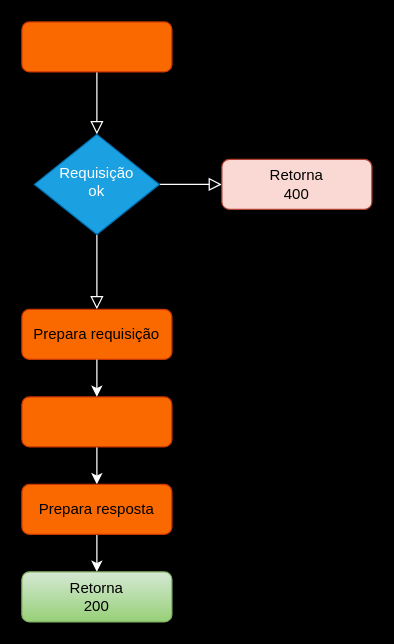
The diagram is 394 pixels wide and 644 high, and some of its shapes have lost their labels. The centre of each missing label's shape, as x and y in pixels:
"Realiza predição" goes at (x=96, y=421).
"Serviço Detecção de Fraude" goes at (x=96, y=46).
